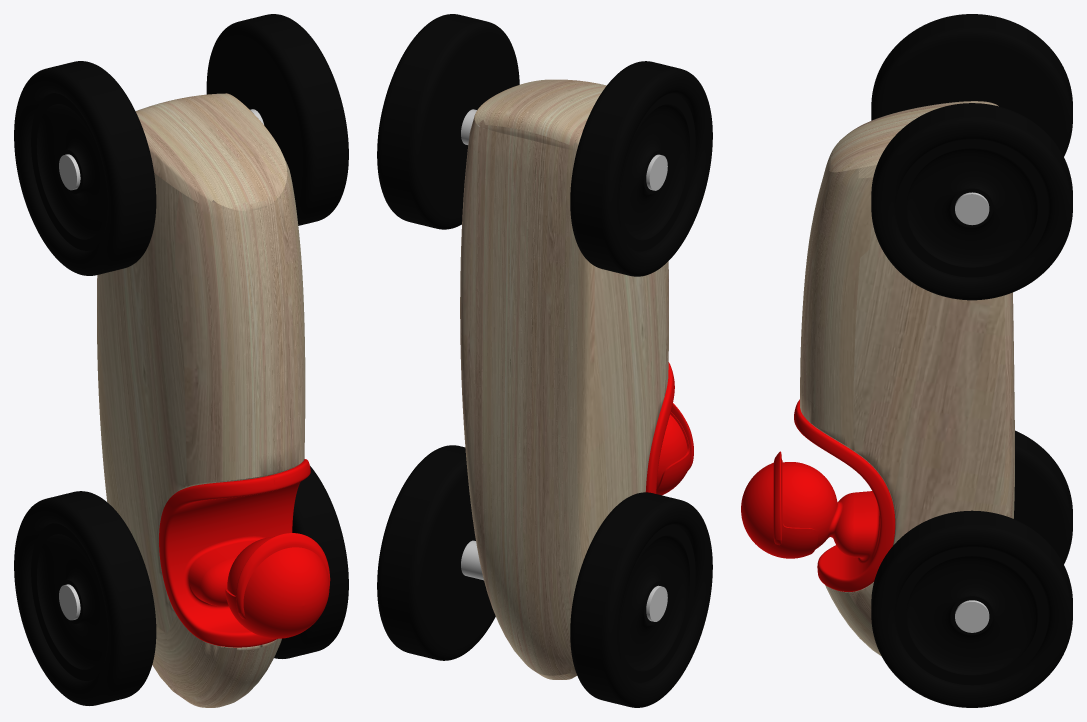
File: car.obj
3 renders of one model, left to right at view 1: azimuth 30°, elevation 25°; view 2: azimuth 150°, elevation 25°; view 3: azimuth 270°, elevation 25°, orthographic. The views are drawn at different scales.
Parts seen in each view (by area): view 1: Object_3, Object_1, Object_2, Object_0; view 2: Object_1, Object_3, Object_2, Object_0; view 3: Object_1, Object_3, Object_2, Object_0.
Part boxes in pixels (x1,y1,x2,y2): Object_3: [97, 93, 305, 707]; Object_1: [14, 14, 348, 705]; Object_2: [159, 459, 330, 647]; Object_0: [59, 109, 263, 620]; Object_1: [377, 14, 712, 707]; Object_3: [460, 79, 668, 679]; Object_2: [645, 362, 693, 495]; Object_0: [461, 109, 667, 621]; Object_1: [871, 14, 1072, 707]; Object_3: [800, 101, 1014, 656]; Object_2: [741, 399, 895, 591]; Object_0: [955, 192, 989, 632].
Bounding box in the file's own units: 0.6021 × 1.56 × 0.775.
Materials: 4 (1 with a texture image).
